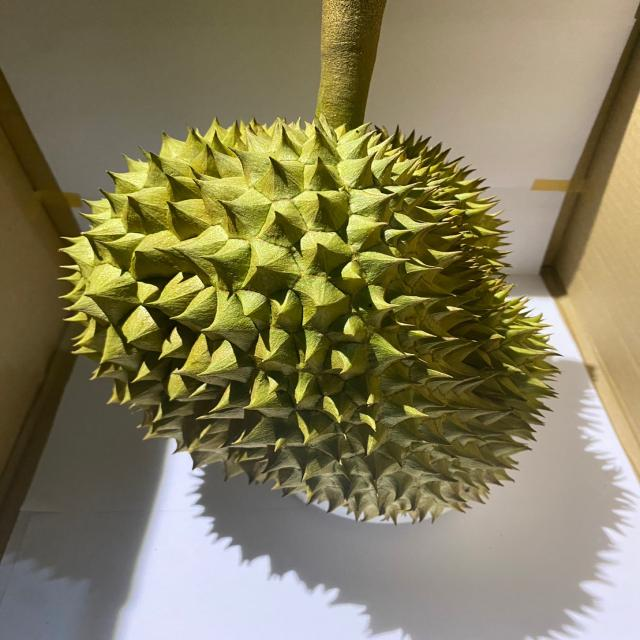immature: (55, 118, 562, 526)
